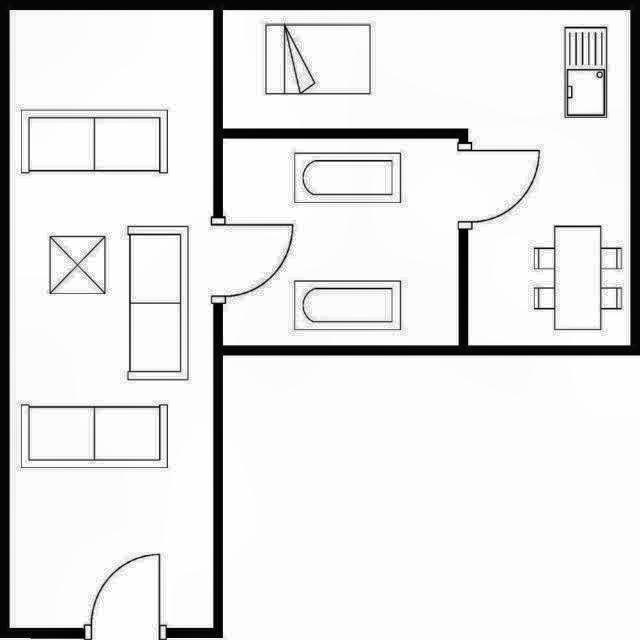room: (223, 10, 631, 345), (10, 10, 213, 628), (223, 139, 459, 345)
